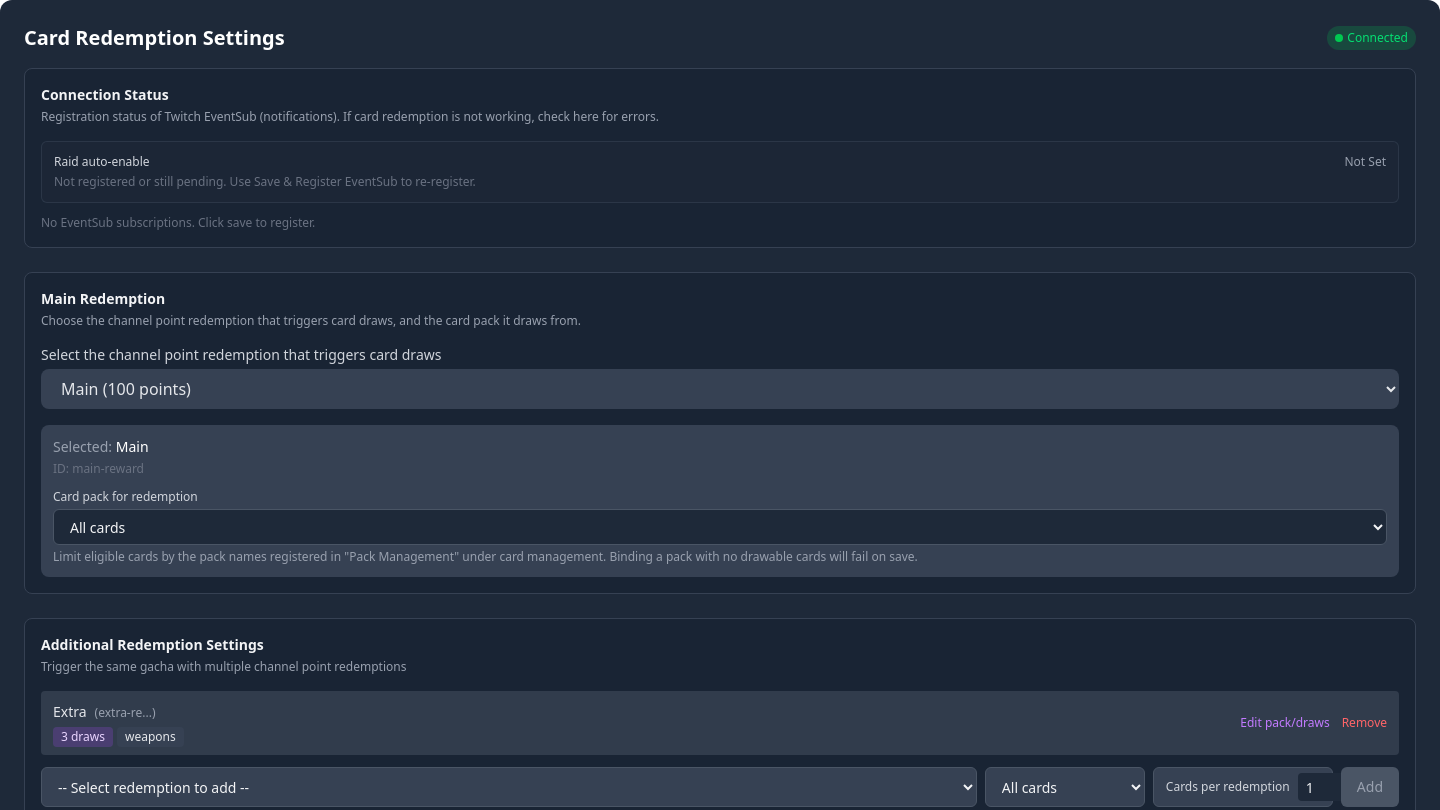
Test: ChannelPointSettings additional-reward editing › localizes the same reward-not-found API error in English
This screenshot has width=1440, height=810.
Click the button with aria-label "Edit pack/draws for Extra" at (1285, 723), box 1240,715 -> 1330,731
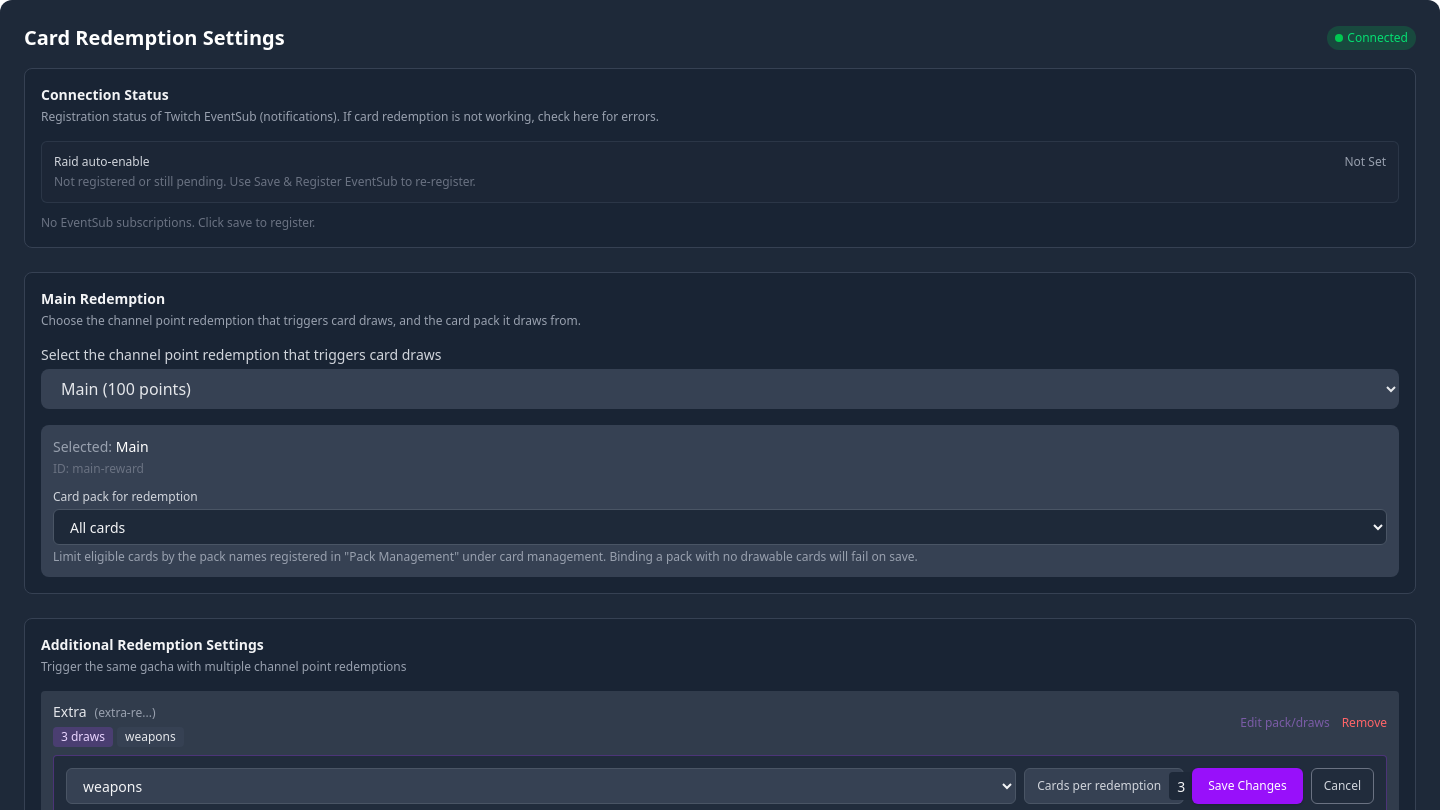
Click the button "Save Changes" at (1248, 786), box 1192,768 -> 1303,804
(page scrolled)
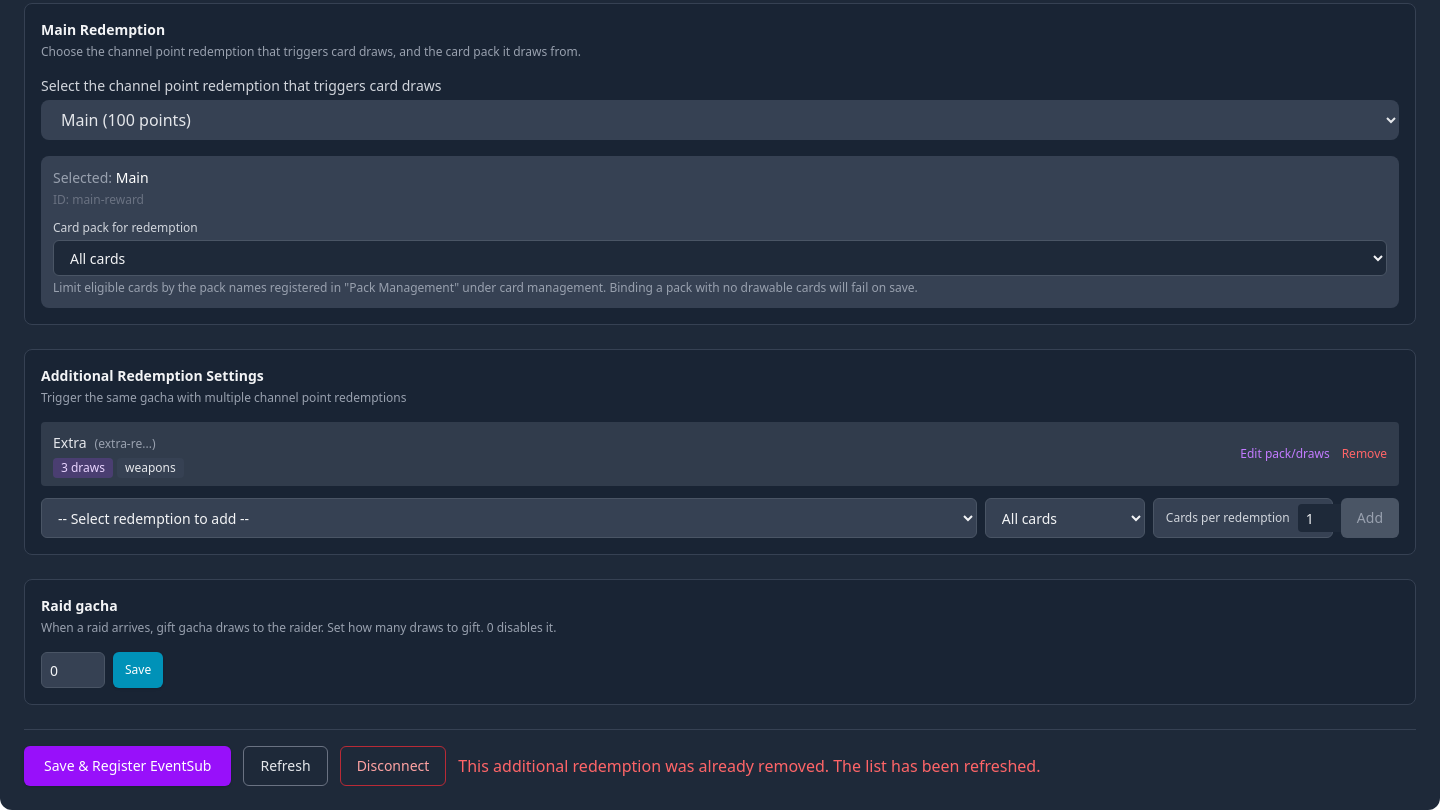
Result: the text "This additional redemption was already removed. The list has been refreshed." is shown at 458,754 -> 1040,778
